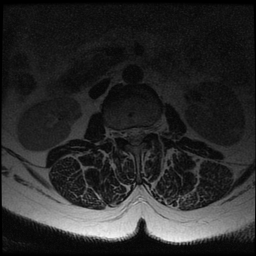CCS_normal: (131, 121, 137, 151)
LFS_normal: (145, 118, 152, 142)
LLS_normal: (138, 122, 145, 147)
RFS_normal: (115, 121, 123, 145)
RLS_normal: (123, 122, 131, 145)
